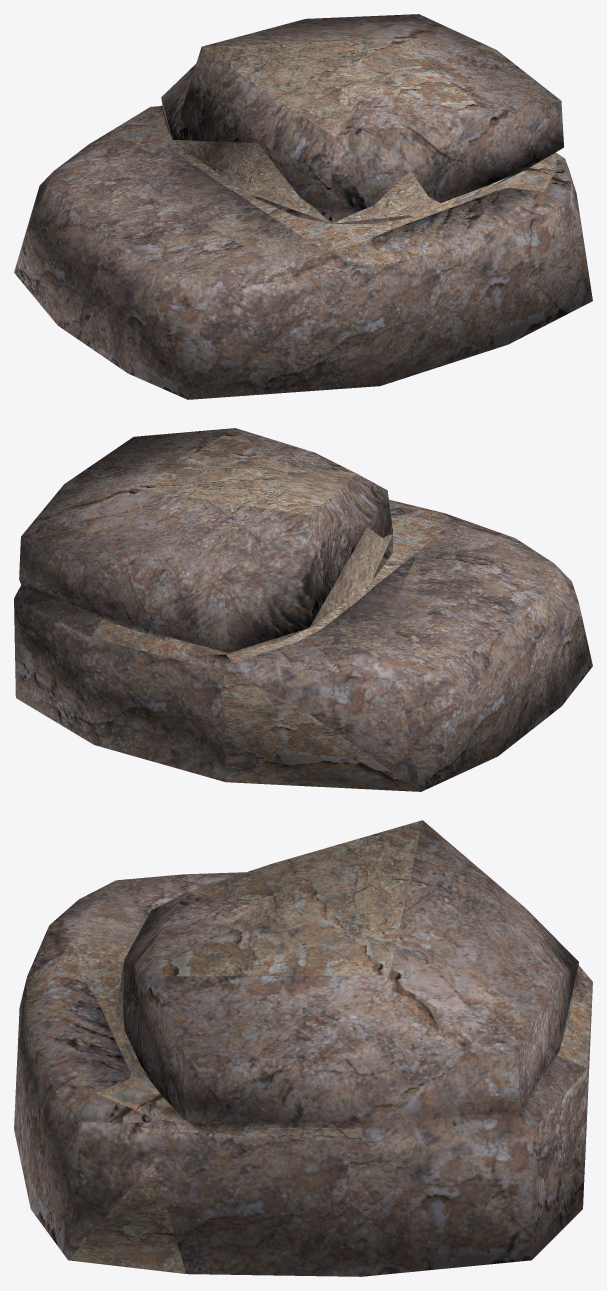
File: africaRock_03.DAE
3 renders of one model, top to bottom at view 1: azimuth 30°, elevation 25°; view 2: azimuth 150°, elevation 25°; view 3: azimuth 270°, elevation 25°, orthographic. The views are drawn at different scales.
Parts seen in each view (by area): view 1: BKafricaRockThree100, BKafricaRockThree50; view 2: BKafricaRockThree100, BKafricaRockThree50; view 3: BKafricaRockThree100, BKafricaRockThree50.
Boxes of the visible parts, left/top/right/bottom form: BKafricaRockThree100: left=14, top=14, right=592, bottom=399; BKafricaRockThree50: left=98, top=38, right=567, bottom=268; BKafricaRockThree100: left=14, top=428, right=592, bottom=791; BKafricaRockThree50: left=91, top=428, right=495, bottom=791; BKafricaRockThree100: left=14, top=820, right=592, bottom=1276; BKafricaRockThree50: left=27, top=820, right=592, bottom=1273.
Size of what is drawn, in the model's own units: 174 by 153 by 103.
